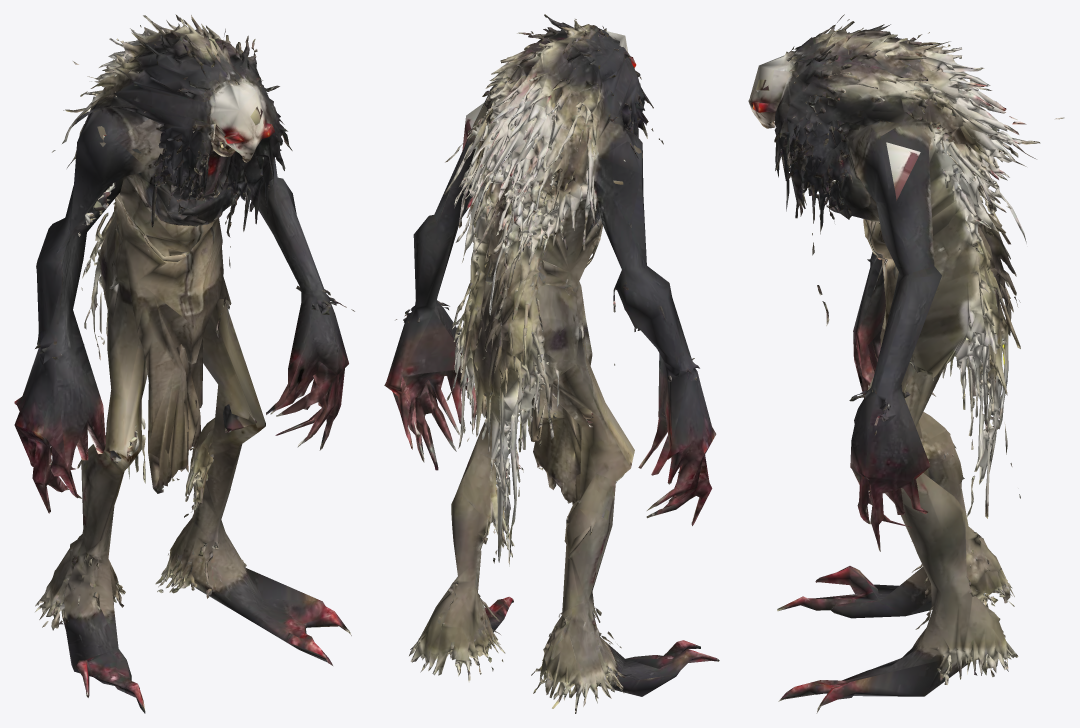
The model's file is bigfoot.glb.
3 views of the same model, side by side, from view 1: azimuth 30°, elevation 25°; view 2: azimuth 150°, elevation 25°; view 3: azimuth 270°, elevation 25° (orthographic).
Bounding box in the file's own units: 1.03 × 1.93 × 0.8732.
1 material, 1 textured.
